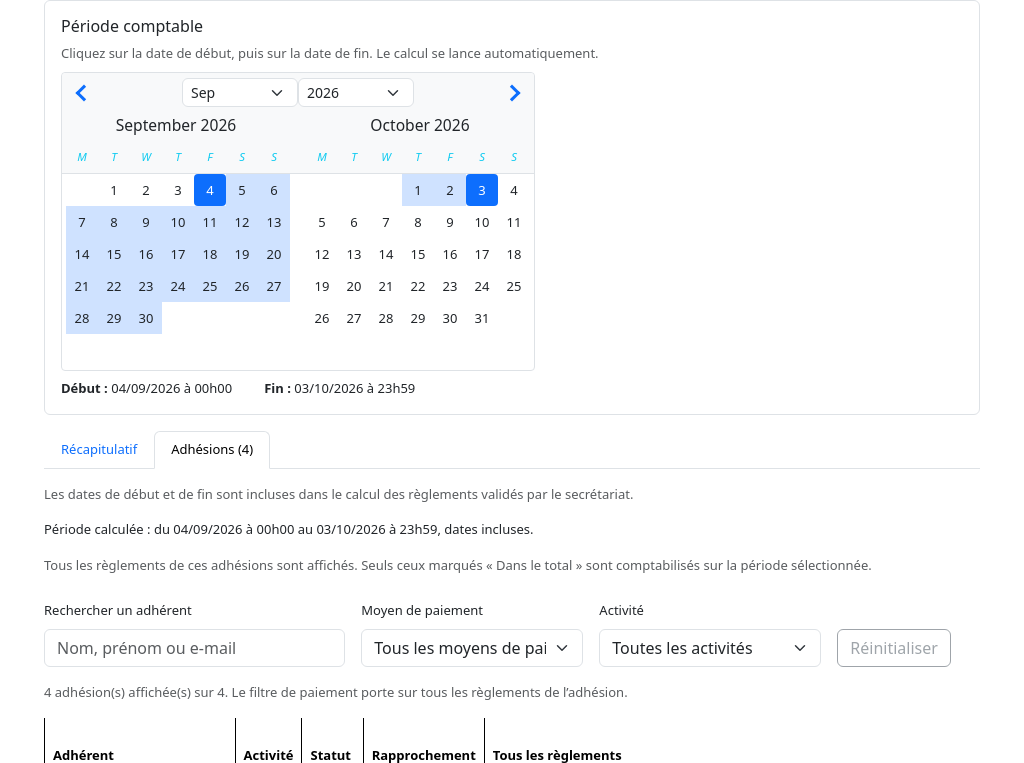
Test: ComptaComponent › filters through the table controls, explains empty results and resets without reloading
The image size is (1024, 763).
Type "elodie" into the search field with id "compta-adherent-search" at {"x": 195, "y": 648}, box [44,629,345,667]
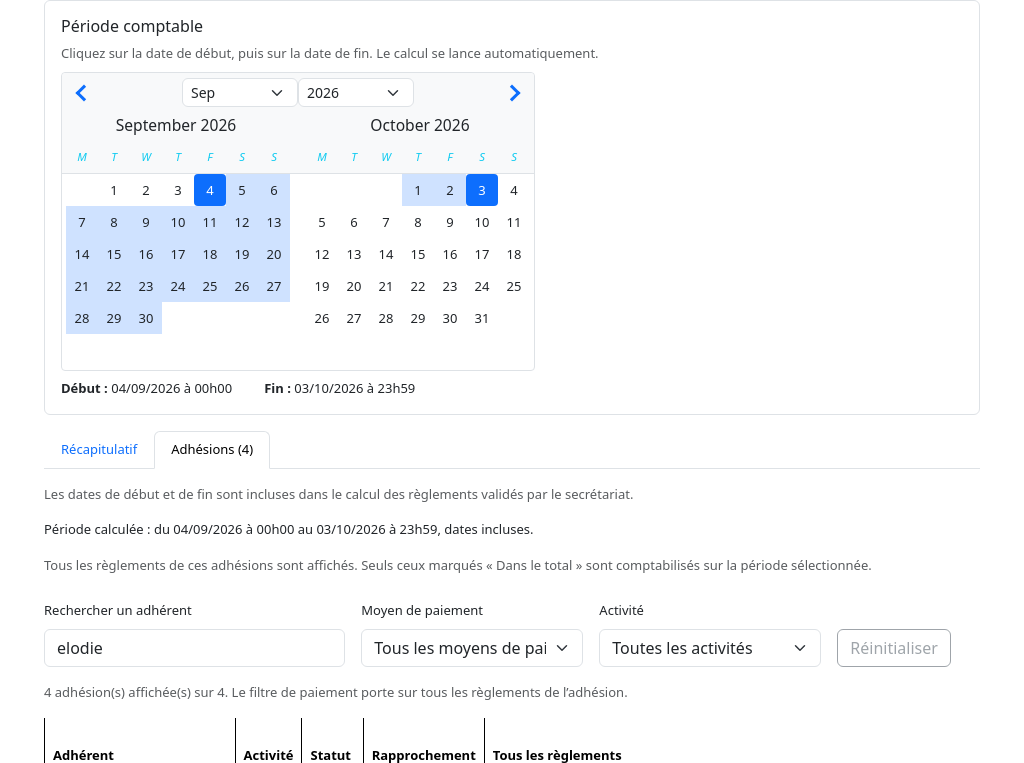
Select "CB" in the dropdown with id "compta-payment-filter" at {"x": 472, "y": 648}, box [361,629,583,667]
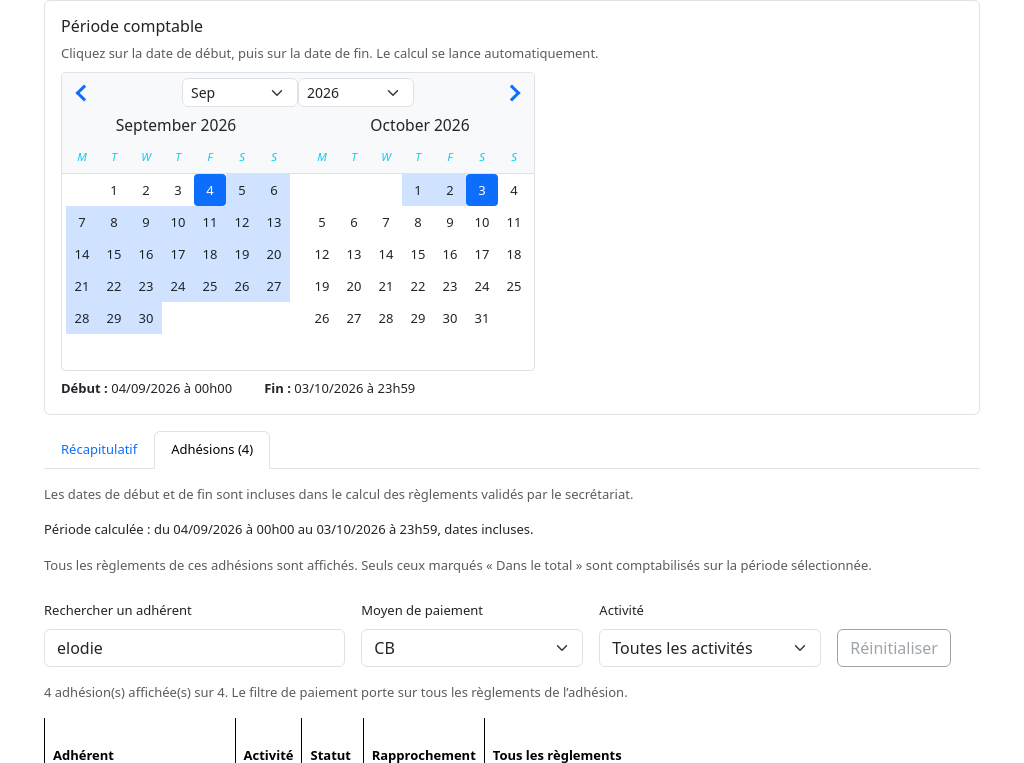
Select "Basket" in the dropdown with id "compta-activity-filter" at {"x": 710, "y": 648}, box [599,629,821,667]
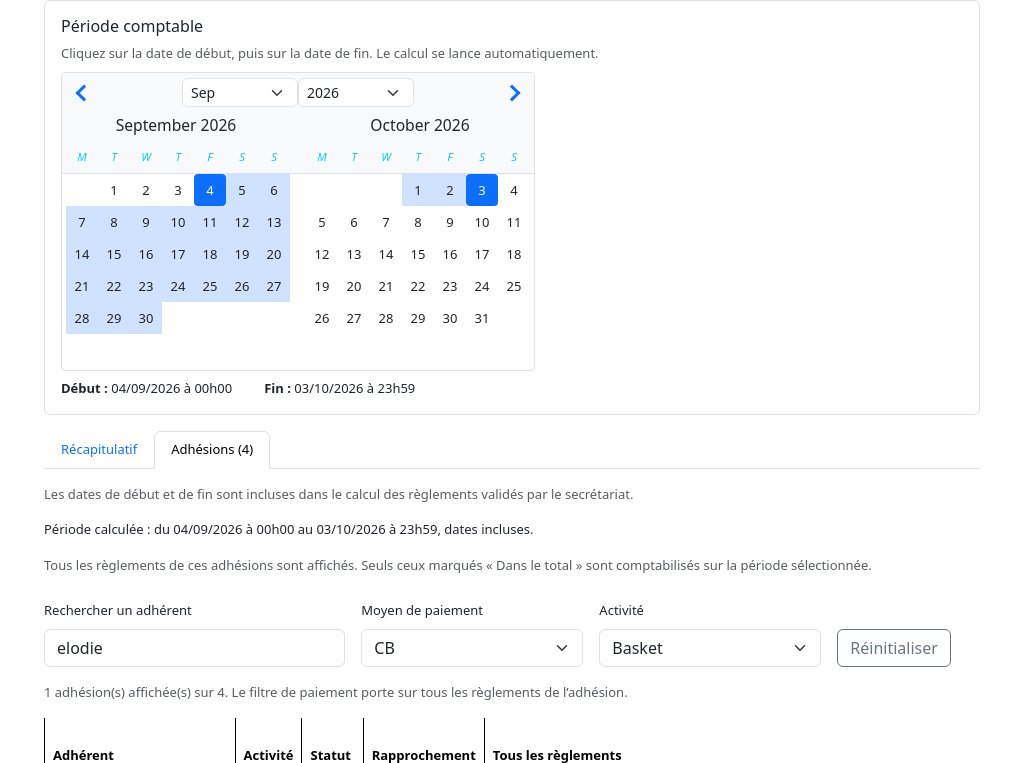
expect the message shows "1 adhésion(s) affichée(s) sur 4": met, box [44,683,628,701]
Replace the text in the search field with id "compta-adherent-search" with "inexistant" at {"x": 195, "y": 648}, box [44,629,345,667]
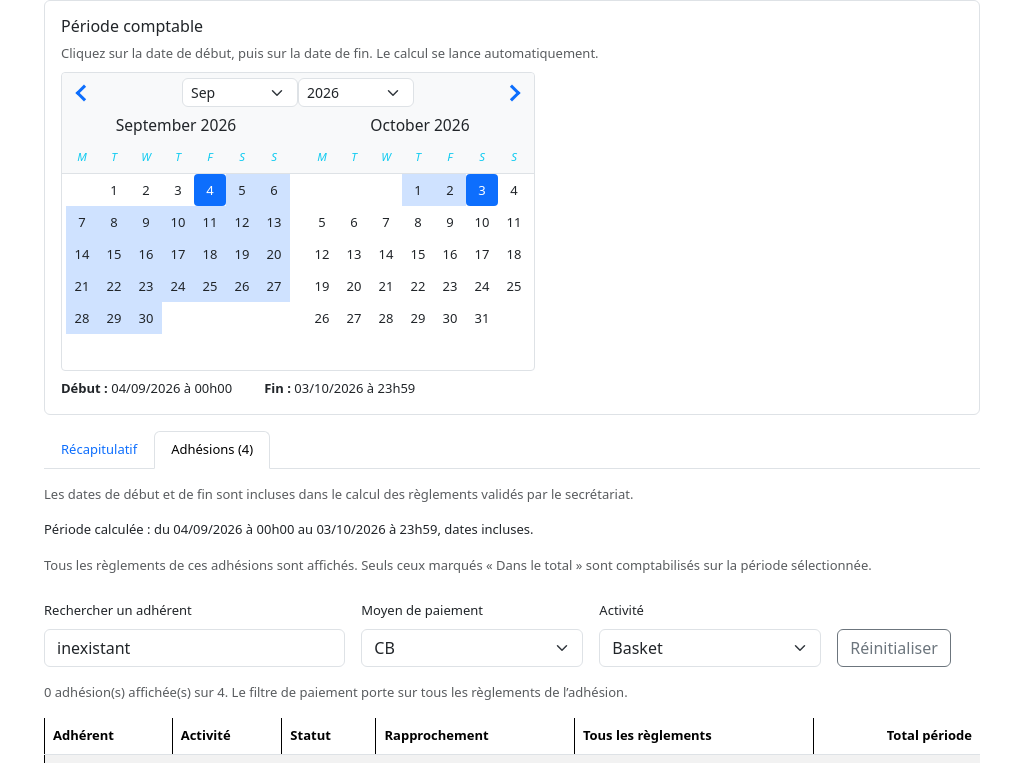
Click the button with class "btn-outline-secondary" at {"x": 894, "y": 648}, box [837,629,951,667]
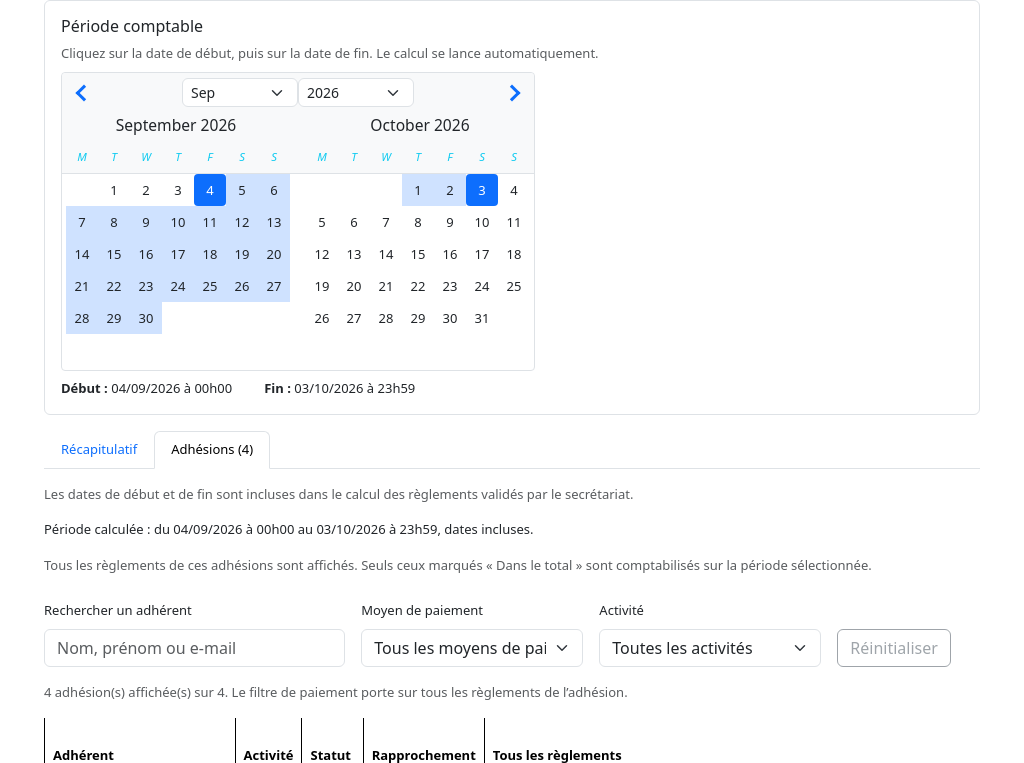
expect the search field with id "compta-adherent-search" is empty: met, box [44,629,345,667]
expect the button with class "btn-outline-secondary" is disabled: met, box [837,629,951,667]
